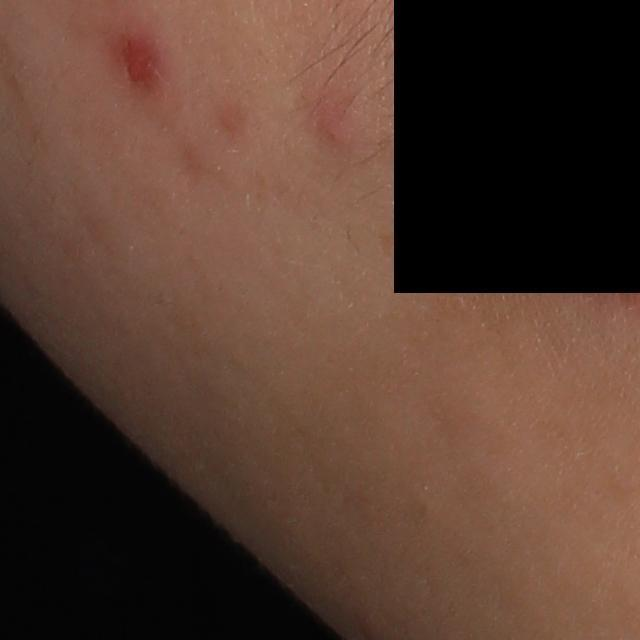papule: (310, 96, 367, 151)
